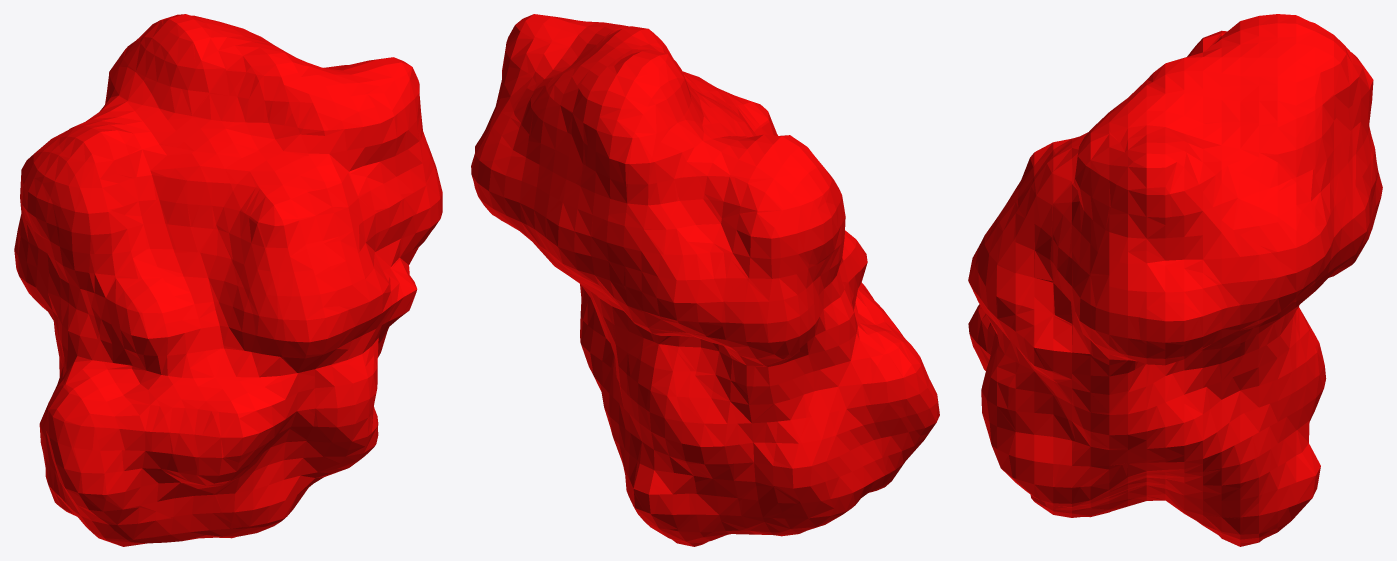
File: yeaP_coarse.dae
The picture shows the model from 3 angles, left to right: view 1: azimuth 30°, elevation 25°; view 2: azimuth 150°, elevation 25°; view 3: azimuth 270°, elevation 25°; orthographic projection. The views are drawn at different scales.
Parts seen in each view (by area): view 1: yeaP; view 2: yeaP; view 3: yeaP.
Part boxes in pixels (x1=…): yeaP: x1=14, y1=14, x2=442, y2=546; yeaP: x1=471, y1=14, x2=939, y2=546; yeaP: x1=968, y1=14, x2=1382, y2=546.
Bounding box in the file's own units: 60.02 × 66.61 × 46.13.
